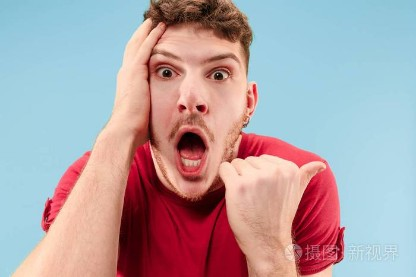张嘴: (167, 121, 215, 184)
